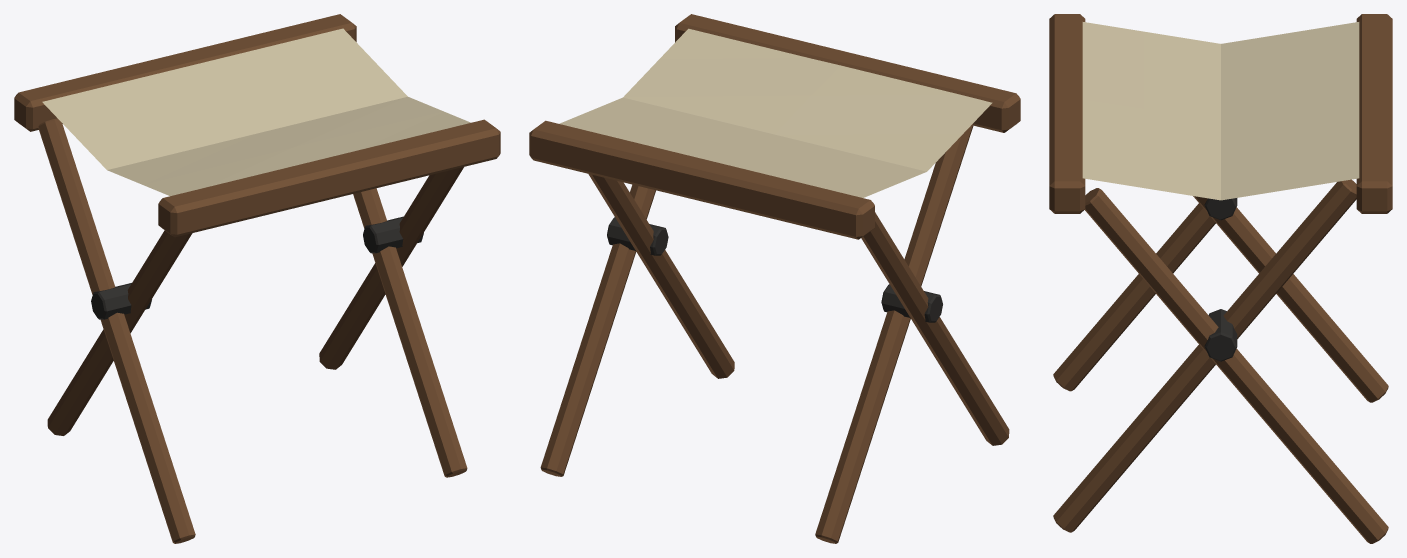
The model's file is camp_stool.glb.
The picture shows the model from 3 angles, left to right: view 1: azimuth 30°, elevation 25°; view 2: azimuth 150°, elevation 25°; view 3: azimuth 270°, elevation 25°; orthographic projection. The views are drawn at different scales.
Visible parts, largest first — view 1: camp_stool; view 2: camp_stool; view 3: camp_stool.
Part boxes in pixels (x1,y1,x2,y2): camp_stool: (14, 14, 500, 543); camp_stool: (529, 14, 1020, 543); camp_stool: (1049, 14, 1392, 543).
Size of the model in its own units: 0.45 by 0.4498 by 0.38.
